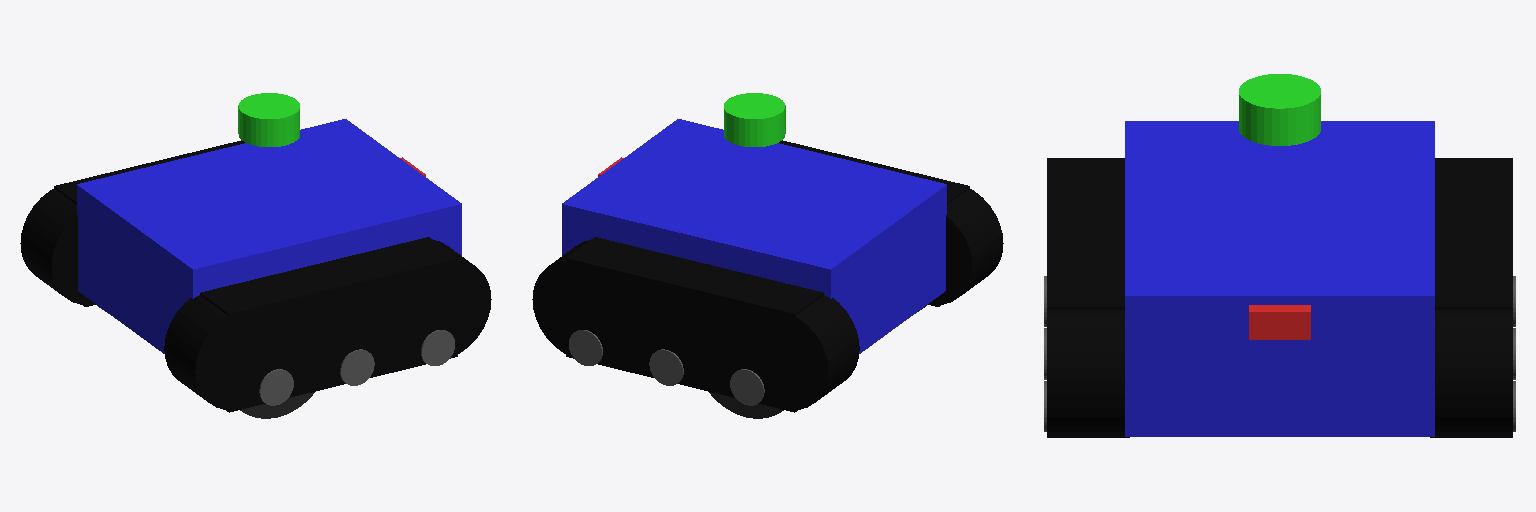
The robot description file, URDF, robot "two_wheel_robot":
<?xml version="1.0"?>
<robot name="two_wheel_robot">
  <material name="blue_body">
    <color rgba="0.2 0.2 0.9 1.0"/>
  </material>
  <material name="dark_gray">
    <color rgba="0.2 0.2 0.2 1.0"/>
  </material>
  <material name="rubber_track">
    <color rgba="0.08 0.08 0.08 1.0"/>
  </material>
  <material name="light_gray">
    <color rgba="0.4 0.4 0.4 1.0"/>
  </material>
  <material name="red_camera">
    <color rgba="0.9 0.2 0.2 1.0"/>
  </material>
  <material name="green_lidar">
    <color rgba="0.2 0.9 0.2 1.0"/>
  </material>

  <link name="chassis">
    <inertial>
      <origin xyz="0 0 0" rpy="0 0 0"/>
      <mass value="5.0"/>
      <inertia ixx="0.0417" ixy="0.0" ixz="0.0" iyy="0.0667" iyz="0.0" izz="0.0917"/>
    </inertial>
    <visual>
      <origin xyz="0 0 0" rpy="0 0 0"/>
      <geometry>
        <box size="0.4 0.3 0.15"/>
      </geometry>
      <material name="blue_body"/>
    </visual>
    <visual>
      <origin xyz="-0.02 0.185 -0.03" rpy="0 0 0"/>
      <geometry>
        <box size="0.34 0.08 0.14"/>
      </geometry>
      <material name="rubber_track"/>
    </visual>
    <visual>
      <origin xyz="-0.02 -0.185 -0.03" rpy="0 0 0"/>
      <geometry>
        <box size="0.34 0.08 0.14"/>
      </geometry>
      <material name="rubber_track"/>
    </visual>
    <visual>
      <origin xyz="0.13 0.185 -0.03" rpy="1.5708 0 0"/>
      <geometry>
        <cylinder radius="0.07" length="0.08"/>
      </geometry>
      <material name="rubber_track"/>
    </visual>
    <visual>
      <origin xyz="-0.17 0.185 -0.03" rpy="1.5708 0 0"/>
      <geometry>
        <cylinder radius="0.07" length="0.08"/>
      </geometry>
      <material name="rubber_track"/>
    </visual>
    <visual>
      <origin xyz="0.13 -0.185 -0.03" rpy="1.5708 0 0"/>
      <geometry>
        <cylinder radius="0.07" length="0.08"/>
      </geometry>
      <material name="rubber_track"/>
    </visual>
    <visual>
      <origin xyz="-0.17 -0.185 -0.03" rpy="1.5708 0 0"/>
      <geometry>
        <cylinder radius="0.07" length="0.08"/>
      </geometry>
      <material name="rubber_track"/>
    </visual>
    <visual>
      <origin xyz="-0.12 0.185 -0.08" rpy="1.5708 0 0"/>
      <geometry>
        <cylinder radius="0.025" length="0.085"/>
      </geometry>
      <material name="light_gray"/>
    </visual>
    <visual>
      <origin xyz="0.0 0.185 -0.08" rpy="1.5708 0 0"/>
      <geometry>
        <cylinder radius="0.025" length="0.085"/>
      </geometry>
      <material name="light_gray"/>
    </visual>
    <visual>
      <origin xyz="0.12 0.185 -0.08" rpy="1.5708 0 0"/>
      <geometry>
        <cylinder radius="0.025" length="0.085"/>
      </geometry>
      <material name="light_gray"/>
    </visual>
    <visual>
      <origin xyz="-0.12 -0.185 -0.08" rpy="1.5708 0 0"/>
      <geometry>
        <cylinder radius="0.025" length="0.085"/>
      </geometry>
      <material name="light_gray"/>
    </visual>
    <visual>
      <origin xyz="0.0 -0.185 -0.08" rpy="1.5708 0 0"/>
      <geometry>
        <cylinder radius="0.025" length="0.085"/>
      </geometry>
      <material name="light_gray"/>
    </visual>
    <visual>
      <origin xyz="0.12 -0.185 -0.08" rpy="1.5708 0 0"/>
      <geometry>
        <cylinder radius="0.025" length="0.085"/>
      </geometry>
      <material name="light_gray"/>
    </visual>
    <collision>
      <origin xyz="0 0 0" rpy="0 0 0"/>
      <geometry>
        <box size="0.4 0.3 0.15"/>
      </geometry>
    </collision>
  </link>
  <link name="caster_wheel">
    <inertial>
      <origin xyz="0 0 0" rpy="0 0 0"/>
      <mass value="0.2"/>
      <inertia ixx="0.00008" ixy="0.0" ixz="0.0" iyy="0.00008" iyz="0.0" izz="0.00008"/>
    </inertial>
    <collision>
      <origin xyz="0 0 0" rpy="0 0 0"/>
      <geometry>
        <sphere radius="0.04"/>
      </geometry>
    </collision>
  </link>
  <joint name="caster_joint" type="fixed">
    <origin xyz="0.15 0 -0.10" rpy="0 0 0"/>
    <parent link="chassis"/>
    <child link="caster_wheel"/>
  </joint>

  <link name="left_wheel">
    <inertial>
      <origin xyz="0 0 0" rpy="0 0 0"/>
      <mass value="0.5"/>
      <inertia ixx="0.00065" ixy="0.0" ixz="0.0" iyy="0.00065" iyz="0.0" izz="0.00113"/>
    </inertial>
    <visual>
      <origin xyz="0 0 0" rpy="0 0 0"/>
      <geometry>
        <cylinder radius="0.08" length="0.04"/>
      </geometry>
      <material name="dark_gray"/>
    </visual>
    <collision>
      <origin xyz="0 0 0" rpy="0 0 0"/>
      <geometry>
        <cylinder radius="0.08" length="0.04"/>
      </geometry>
    </collision>
  </link>
  <joint name="left_wheel_joint" type="continuous">
    <origin xyz="-0.1 0.175 -0.06" rpy="-1.5708 0 0"/>
    <parent link="chassis"/>
    <child link="left_wheel"/>
    <axis xyz="0 0 1"/>
  </joint>

  <link name="right_wheel">
    <inertial>
      <origin xyz="0 0 0" rpy="0 0 0"/>
      <mass value="0.5"/>
      <inertia ixx="0.00065" ixy="0.0" ixz="0.0" iyy="0.00065" iyz="0.0" izz="0.00113"/>
    </inertial>
    <visual>
      <origin xyz="0 0 0" rpy="0 0 0"/>
      <geometry>
        <cylinder radius="0.08" length="0.04"/>
      </geometry>
      <material name="dark_gray"/>
    </visual>
    <collision>
      <origin xyz="0 0 0" rpy="0 0 0"/>
      <geometry>
        <cylinder radius="0.08" length="0.04"/>
      </geometry>
    </collision>
  </link>
  <joint name="right_wheel_joint" type="continuous">
    <origin xyz="-0.1 -0.175 -0.06" rpy="-1.5708 0 0"/>
    <parent link="chassis"/>
    <child link="right_wheel"/>
    <axis xyz="0 0 1"/>
  </joint>

  <link name="imu_link">
    <visual>
      <origin xyz="0 0 0" rpy="0 0 0"/>
      <geometry>
        <box size="0.03 0.02 0.01"/>
      </geometry>
      <material name="light_gray"/>
    </visual>
  </link>
  <joint name="imu_joint" type="fixed">
    <origin xyz="0 0 0.04" rpy="0 0 0"/>
    <parent link="chassis"/>
    <child link="imu_link"/>
  </joint>

  <link name="camera_link">
    <inertial>
      <origin xyz="0 0 0" rpy="0 0 0"/>
      <mass value="0.1"/>
      <inertia ixx="0.00001" ixy="0.0" ixz="0.0" iyy="0.00001" iyz="0.0" izz="0.00001"/>
    </inertial>
    <visual>
      <origin xyz="0 0 0" rpy="0 0 0"/>
      <geometry>
        <box size="0.03 0.06 0.03"/>
      </geometry>
      <material name="red_camera"/>
    </visual>
  </link>
  <joint name="camera_joint" type="fixed">
    <origin xyz="0.2 0 0.05" rpy="0 0 0"/>
    <parent link="chassis"/>
    <child link="camera_link"/>
  </joint>

  <link name="lidar_link">
    <inertial>
      <origin xyz="0 0 0" rpy="0 0 0"/>
      <mass value="0.2"/>
      <inertia ixx="0.00005" ixy="0.0" ixz="0.0" iyy="0.00005" iyz="0.0" izz="0.00005"/>
    </inertial>
    <visual>
      <origin xyz="0 0 0" rpy="0 0 0"/>
      <geometry>
        <cylinder radius="0.04" length="0.04"/>
      </geometry>
      <material name="green_lidar"/>
    </visual>
  </link>
  <joint name="lidar_joint" type="fixed">
    <origin xyz="0 0 0.18" rpy="0 0 0"/>
    <parent link="chassis"/>
    <child link="lidar_link"/>
  </joint>
</robot>

--- Render facts (derived) ---
3 views of the same robot in one strip: view 1: azimuth 30°, elevation 25°; view 2: azimuth 150°, elevation 25°; view 3: azimuth 270°, elevation 25° (orthographic).
Model two_wheel_robot with 7 links and 6 joints (2 continuous, 4 fixed), rooted at chassis, posed all joints at 0.
Links seen in each view (by area): view 1: chassis, lidar_link, right_wheel; view 2: chassis, lidar_link, left_wheel; view 3: chassis, lidar_link, camera_link.
Link boxes in pixels (x1,y1,x2,y2): chassis: [20, 119, 491, 412]; lidar_link: [238, 93, 299, 146]; right_wheel: [240, 392, 314, 418]; chassis: [532, 119, 1003, 412]; lidar_link: [724, 93, 785, 146]; left_wheel: [709, 392, 783, 418]; chassis: [1044, 121, 1515, 437]; lidar_link: [1239, 74, 1320, 145]; camera_link: [1249, 305, 1310, 339].
Size in the robot's own frame: 0.455 by 0.455 by 0.34 metres.
Geometry: primitives only (box / cylinder / sphere), no mesh files.
